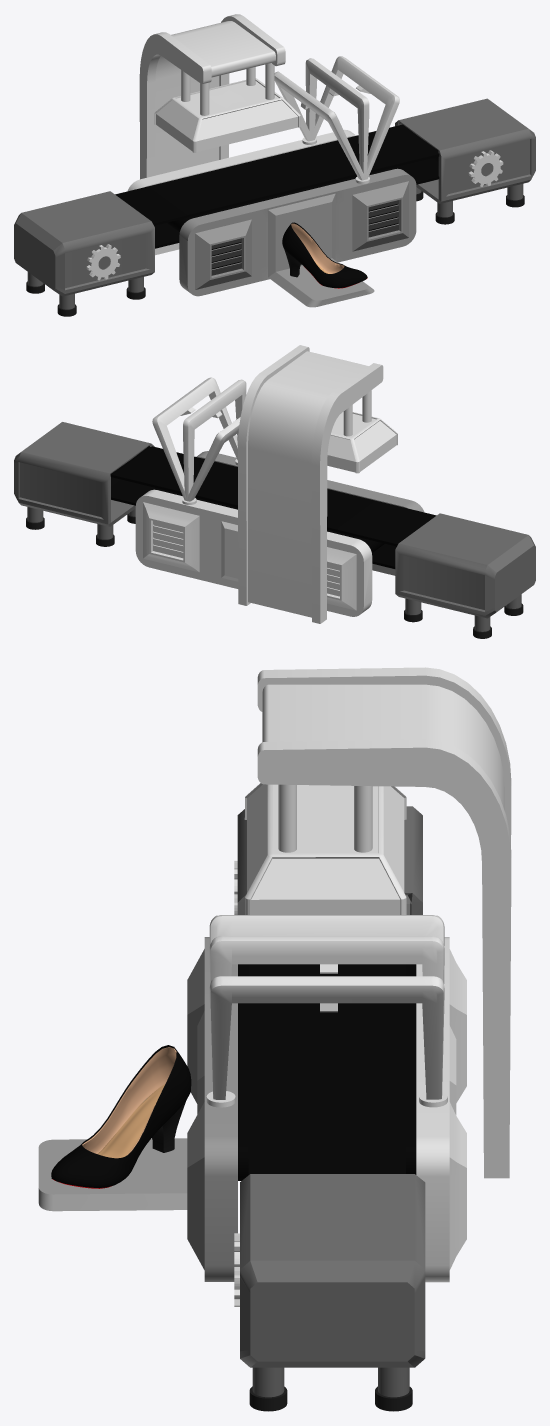
The model's file is ayakkabmak1 (1).fbx.
3 views of the same model, one above another, from view 1: azimuth 30°, elevation 25°; view 2: azimuth 150°, elevation 25°; view 3: azimuth 270°, elevation 25° (orthographic). The views are drawn at different scales.
Parts seen in each view (by area): view 1: Cube.038, Circle.149, Plane.007, Circle.157, Circle.158, Cylinder.131, curve_object1.017, Cube.068, Cube.040, Cube.042, Cube.039, Gear.058 (+6 smaller); view 2: Plane.007, Cube.042, Circle.157, Circle.158, Circle.149, Cylinder.131, Cube.068, Cube.040, Cube.038, Cube.039, Circle.150, Cylinder.135 (+3 smaller); view 3: Plane.007, Circle.158, Circle.149, Cube.038, Cylinder.131, Cube.042, Cube.068, curve_object1.017, Cube.040, Cube.039, Circle.150, Circle.157 (+4 smaller).
Boxes of the visible parts, x1=… form: Cube.038: x1=179, y1=168, x2=416, y2=307; Circle.149: x1=115, y1=124, x2=439, y2=248; Plane.007: x1=139, y1=14, x2=285, y2=179; Circle.157: x1=14, y1=191, x2=154, y2=296; Circle.158: x1=395, y1=98, x2=535, y2=203; Cylinder.131: x1=154, y1=78, x2=300, y2=152; curve_object1.017: x1=282, y1=222, x2=367, y2=288; Cube.068: x1=311, y1=56, x2=399, y2=179; Cube.040: x1=305, y1=58, x2=369, y2=179; Cube.042: x1=127, y1=129, x2=355, y2=255; Cube.039: x1=274, y1=71, x2=363, y2=180; Gear.058: x1=468, y1=150, x2=503, y2=186; Plane.007: x1=238, y1=345, x2=383, y2=623; Cube.042: x1=135, y1=489, x2=372, y2=616; Circle.157: x1=395, y1=513, x2=535, y2=618; Circle.158: x1=14, y1=422, x2=154, y2=526; Circle.149: x1=110, y1=446, x2=436, y2=568; Cylinder.131: x1=327, y1=412, x2=397, y2=473; Cube.068: x1=152, y1=377, x2=237, y2=500; Cube.040: x1=183, y1=379, x2=246, y2=500; Cube.038: x1=196, y1=451, x2=424, y2=575; Cube.039: x1=187, y1=417, x2=240, y2=501; Circle.150: x1=153, y1=488, x2=384, y2=552; Cylinder.135: x1=404, y1=598, x2=422, y2=622; Plane.007: x1=257, y1=667, x2=511, y2=1178; Circle.158: x1=240, y1=1174, x2=425, y2=1367; Circle.149: x1=248, y1=895, x2=405, y2=1174; Cube.038: x1=38, y1=937, x2=237, y2=1281; Cylinder.131: x1=244, y1=783, x2=406, y2=914; Cube.042: x1=416, y1=937, x2=466, y2=1282; Cube.068: x1=209, y1=976, x2=444, y2=1099; curve_object1.017: x1=51, y1=1045, x2=191, y2=1188; Cube.040: x1=209, y1=936, x2=444, y2=983; Cube.039: x1=209, y1=915, x2=444, y2=946; Circle.150: x1=238, y1=964, x2=416, y2=1180; Circle.157: x1=237, y1=806, x2=422, y2=914.
Bounding box in the file's own units: 1410 × 604 × 601.
